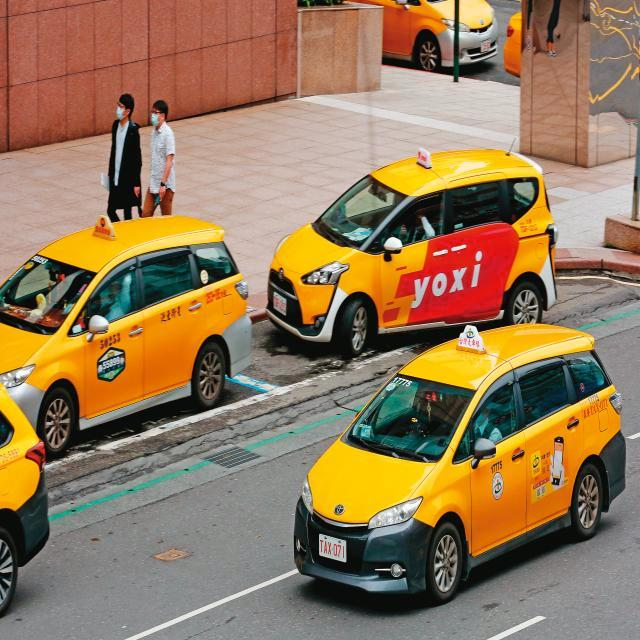taxi: (286, 315, 640, 620), (273, 149, 595, 351), (1, 214, 263, 419), (1, 380, 85, 637)
